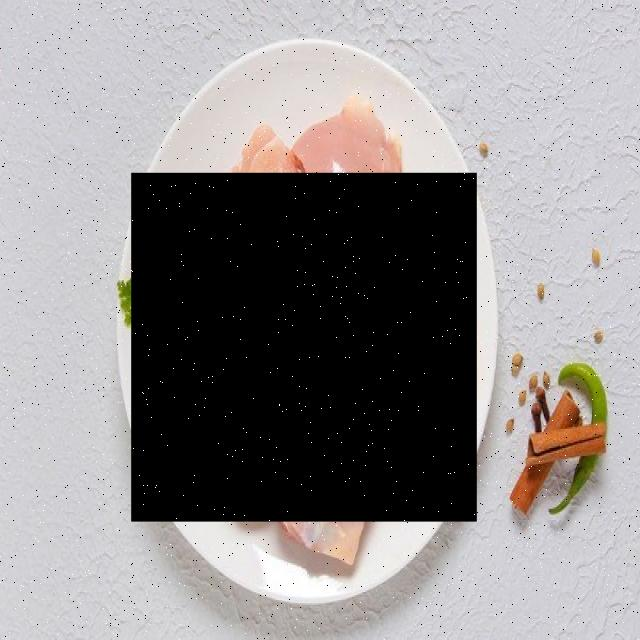Chicken: (132, 175, 478, 522)
